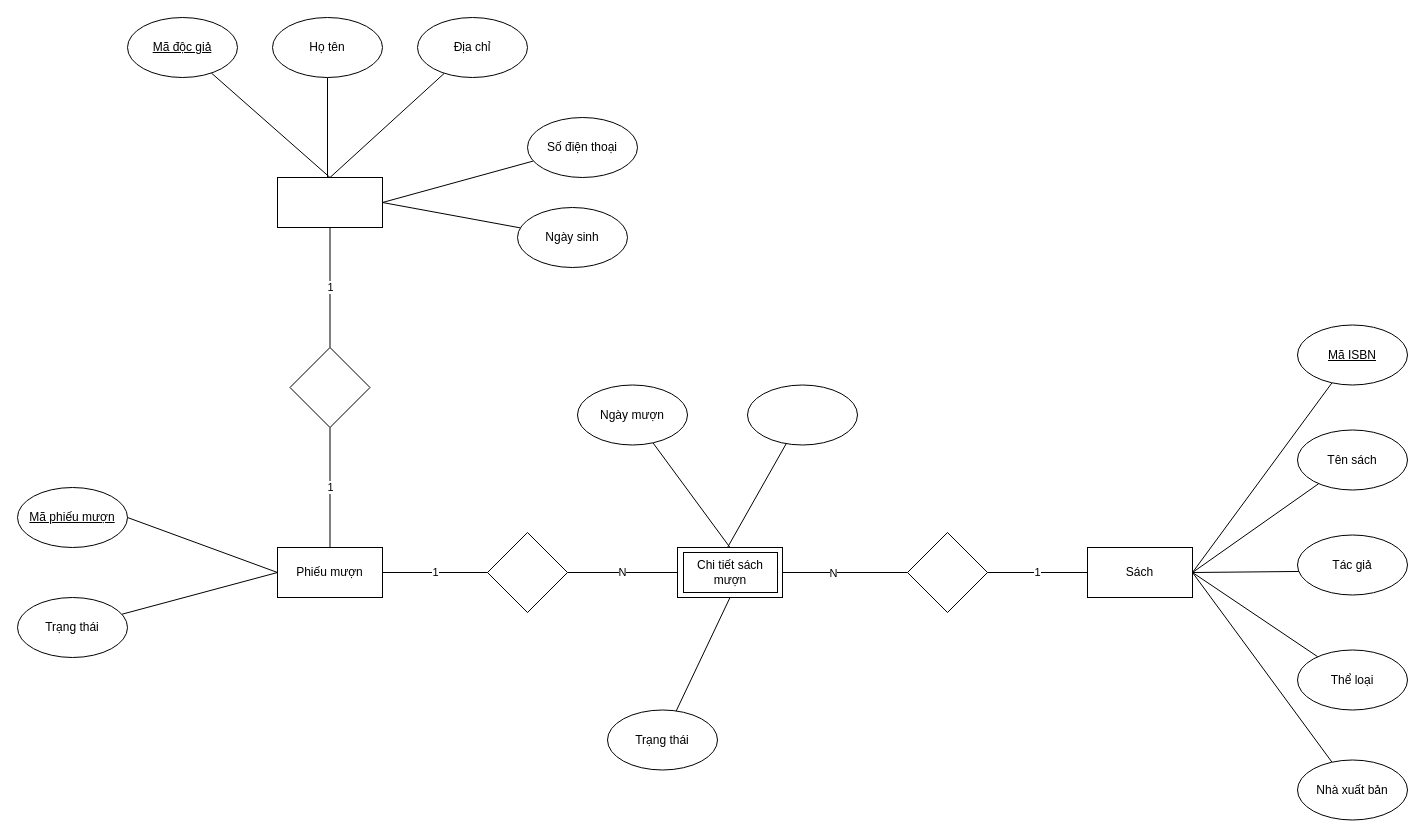
Some shapes in this 1425 by 838 pixel diagram are drawn without their labels. Here are the shapes that lost their labels. From the top down, the centre of each, then its label:
At (x=329, y=202): "Độc giả".
At (x=329, y=387): "Sở hữu".
At (x=802, y=414): "Ngày trả".
At (x=527, y=572): "Có".
At (x=947, y=572): "thuộc".
